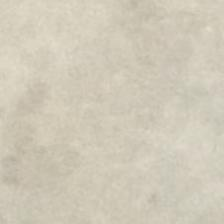Non_Crack: (16, 7, 224, 224)
